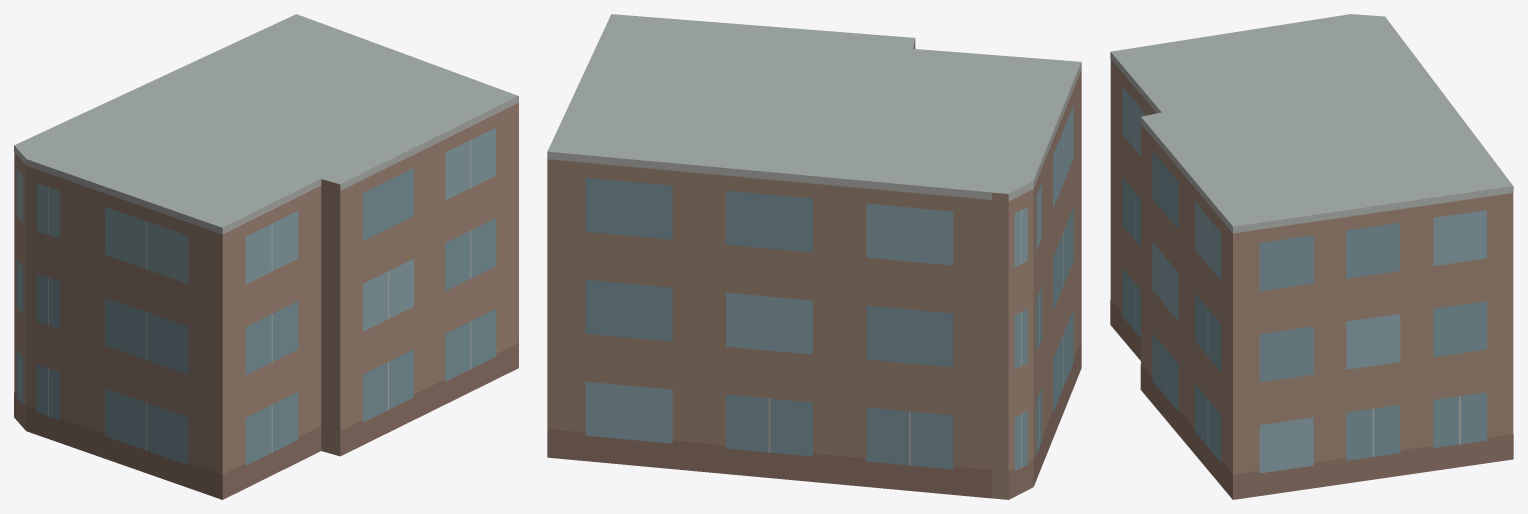
The model's file is survey-upis-32943945.glb.
The picture shows the model from 3 angles, left to right: view 1: azimuth 30°, elevation 25°; view 2: azimuth 150°, elevation 25°; view 3: azimuth 270°, elevation 25°; orthographic projection. The views are drawn at different scales.
Parts seen in each view (by area): view 1: survey-upis-32943945.tmp; view 2: survey-upis-32943945.tmp; view 3: survey-upis-32943945.tmp.
Part boxes in pixels (x1=…): survey-upis-32943945.tmp: x1=14, y1=14, x2=518, y2=499; survey-upis-32943945.tmp: x1=547, y1=14, x2=1081, y2=499; survey-upis-32943945.tmp: x1=1110, y1=14, x2=1513, y2=499.
Bounding box in the file's own units: 16.54 × 9.9 × 13.25.
